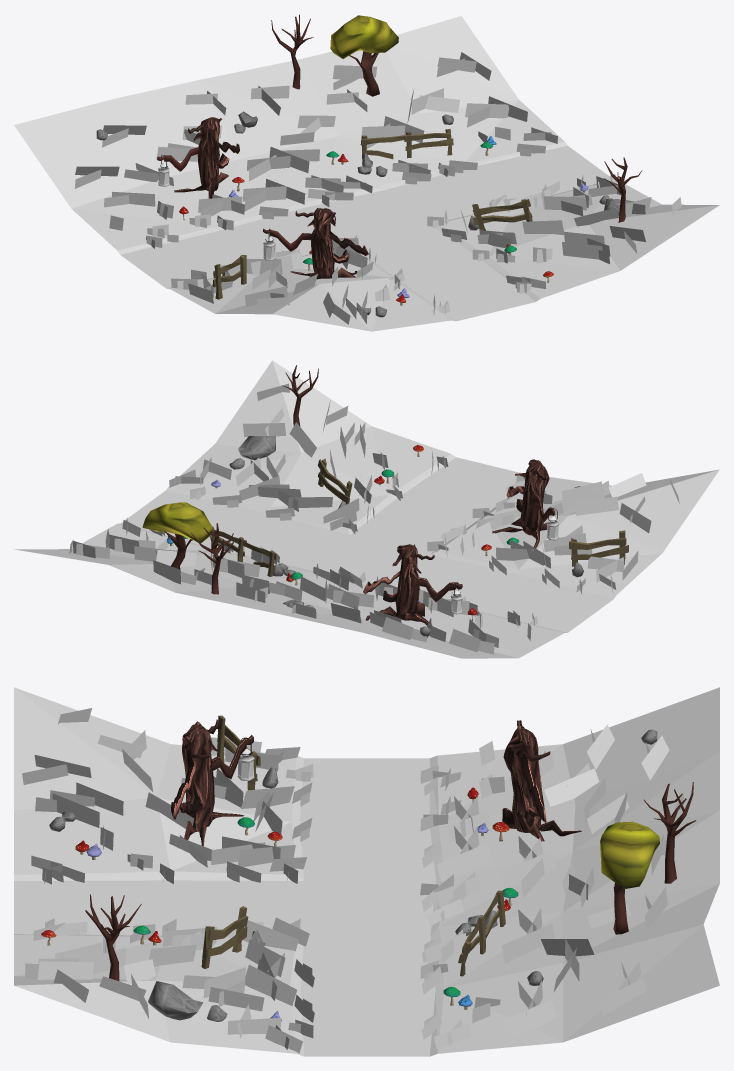
File: environment3 (1).fbx
The picture shows the model from 3 angles, top to bottom: view 1: azimuth 30°, elevation 25°; view 2: azimuth 150°, elevation 25°; view 3: azimuth 270°, elevation 25°; orthographic projection. The views are drawn at different scales.
Parts seen in each view (by area): view 1: Plane.024, Cylinder.026, Cylinder.023, Sphere.004, LowPolyFence_01.002, LowPolyFence_02.002, LowPolyFence_02.003, Plane.006, Cube.016, Plane.116, Plane.999, Plane.1115; view 2: Plane.024, Cylinder.023, Cylinder.026, Sphere.004, LowPolyFence_02.003, LowPolyFence_01.002, Plane.115, Plane.006, LowPolyFence_02.002, Plane.1286, Plane.1029, Plane.116 (+2 smaller); view 3: Plane.024, Cylinder.026, Cylinder.023, Sphere.004, Plane.006, Plane.115, LowPolyFence_02.002, LowPolyFence_01.002, Plane.116, Plane.1184, Plane.1162, Plane.1212 (+22 smaller).
Boxes of the visible parts, x1,y1,x2,y2 form: Plane.024: (14,16,719,331); Cylinder.026: (263,208,368,279); Cylinder.023: (157,117,239,198); Sphere.004: (330,15,398,58); LowPolyFence_01.002: (360,129,453,159); LowPolyFence_02.002: (472,199,532,230); LowPolyFence_02.003: (212,254,246,299); Plane.006: (271,14,313,89); Cube.016: (349,51,379,96); Plane.116: (603,157,642,222); Plane.999: (522,220,563,234); Plane.1115: (562,242,602,259); Plane.024: (14,360,719,658); Cylinder.023: (363,544,462,625); Cylinder.026: (492,459,555,548); Sphere.004: (142,502,213,542); LowPolyFence_02.003: (569,530,628,566); LowPolyFence_01.002: (211,526,277,576); Plane.115: (238,436,275,460); Plane.006: (191,523,233,594); LowPolyFence_02.002: (317,458,352,504); Plane.1286: (574,496,618,515); Plane.1029: (243,423,285,436); Plane.116: (282,365,318,426); Plane.024: (14,687,719,1056); Cylinder.026: (171,719,253,846); Cylinder.023: (502,720,581,841); Sphere.004: (600,821,659,889); Plane.006: (643,782,696,883); Plane.115: (148,981,203,1020); LowPolyFence_02.002: (201,906,248,968); LowPolyFence_01.002: (458,890,505,976); Plane.116: (85,894,141,980); Plane.1184: (501,999,555,1038); Plane.1162: (437,842,491,882); Plane.1212: (544,768,599,806).
Size of the model in its own units: 2250 by 547 by 2250.
